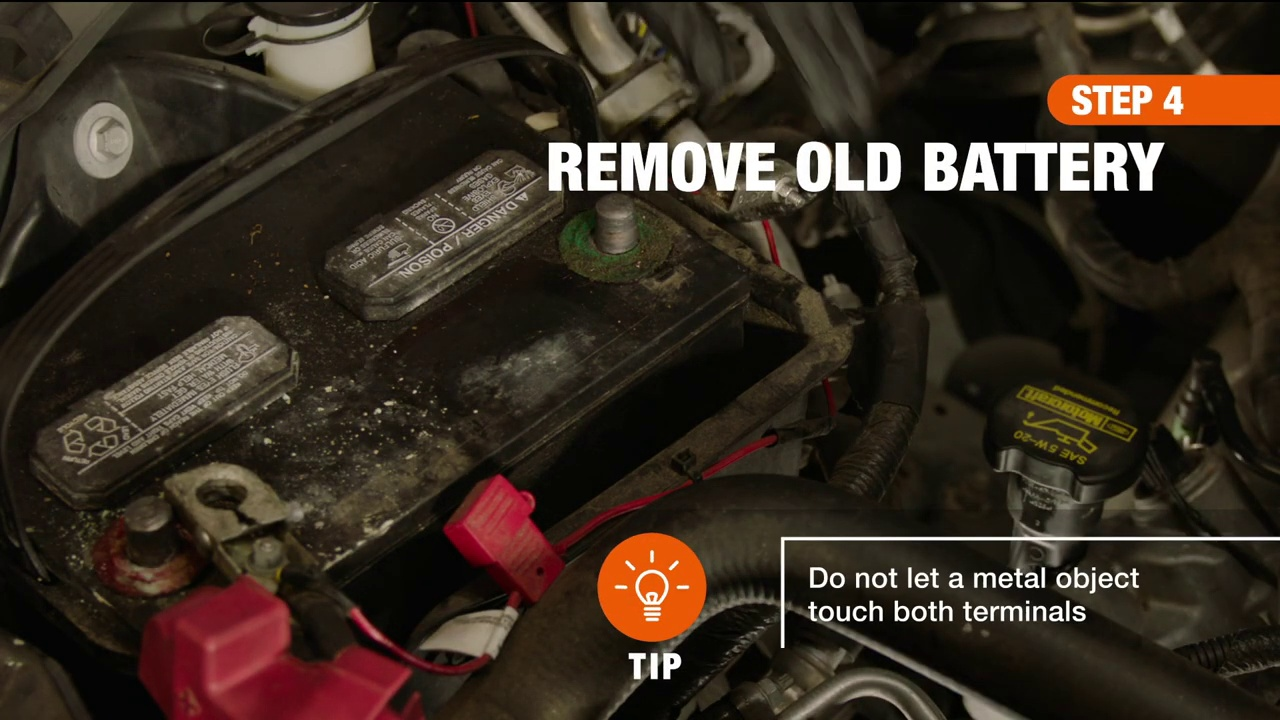battery: (37, 62, 746, 665)
neg_disconnected: (554, 180, 708, 307)
pos_disconnected: (77, 463, 349, 702)
